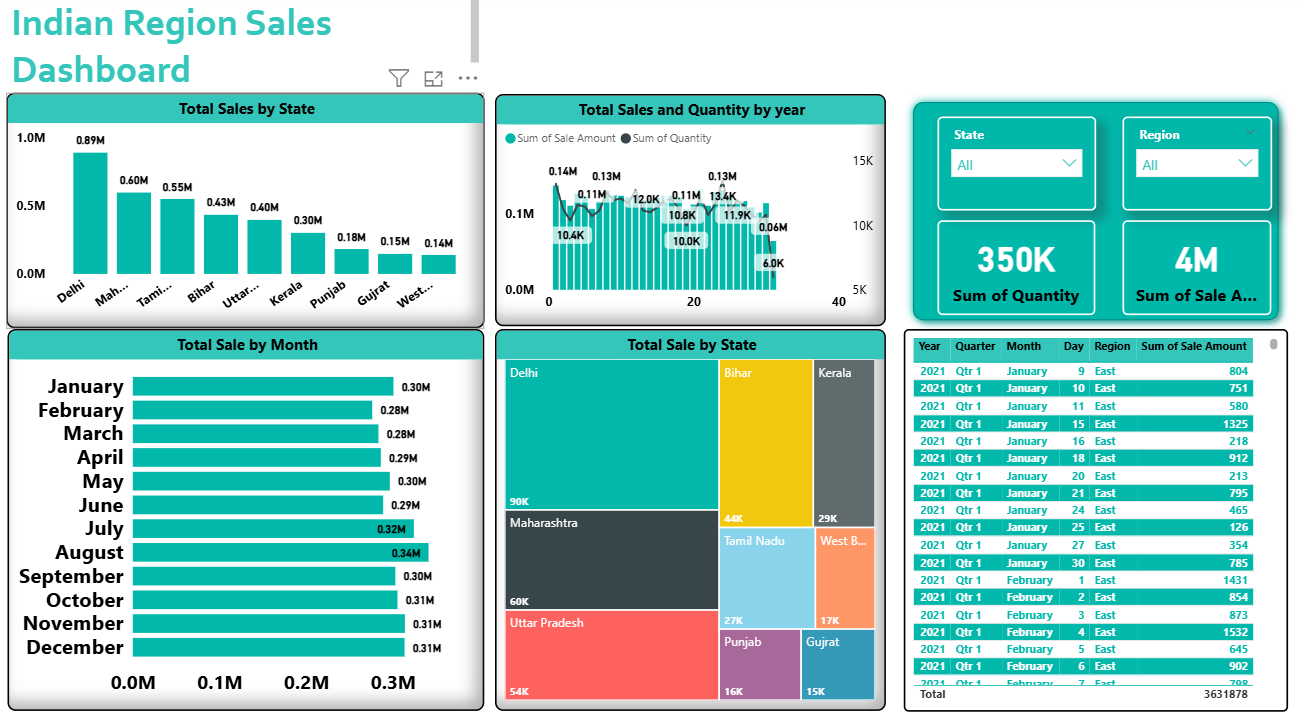

The dashboard page shown, as its layout file describes it:
{"tool":"powerbi","page":{"name":"Page 1","canvas":[1280,720],"ordinal":0},"visuals":[{"type":"textbox","box":[11.2,0,465.9,145.1],"z":0},{"type":"clusteredColumnChart","title":"Total Sales by State","fields":{"Category":["New folder.State"],"Y":["Sum(New folder.Sale Amount)"]},"box":[10.5,97,467.8,230.6],"z":1000},{"type":"clusteredBarChart","title":"Total Sale by Month","fields":{"Category":["New folder.Date.Variation.Date Hierarchy.Month"],"Y":["Sum(New folder.Sale Amount)"]},"box":[11.8,327.6,466.5,373.5],"z":2000},{"type":"lineClusteredColumnComboChart","title":"Total Sales and Quantity by year","fields":{"Category":["New folder.Date.Variation.Date Hierarchy.Year","New folder.Date.Variation.Date Hierarchy.Quarter","New folder.Date.Variation.Date Hierarchy.Month","New folder.Date.Variation.Date Hierarchy.Day"],"Y":["Sum(New folder.Sale Amount)"],"Y2":["Sum(New folder.Quantity)"]},"box":[489.3,98.3,382.3,227.2],"z":3000},{"type":"treemap","title":"Total Sale by State","fields":{"Group":["New folder.State"],"Values":["Sum(New folder.Quantity)"]},"box":[489.3,327.6,382.3,373.5],"z":4000},{"type":"shape","box":[889,96.1,375.7,231.5],"z":5000},{"type":"slicer","fields":{"Values":["New folder.State"]},"box":[921.8,120.1,155.1,91.7],"z":6000},{"type":"slicer","fields":{"Values":["New folder.Region"]},"box":[1103.1,120.1,146.3,91.7],"z":7000},{"type":"card","fields":{"Values":["Sum(New folder.Quantity)"]},"box":[922.2,221.1,154.2,93.1],"z":8000},{"type":"card","fields":{"Values":["Sum(New folder.Sale Amount)"]},"box":[1102.5,221.1,145.5,93.1],"z":9000},{"type":"tableEx","fields":{"Values":["New folder.Date.Variation.Date Hierarchy.Year","New folder.Date.Variation.Date Hierarchy.Quarter","New folder.Date.Variation.Date Hierarchy.Month","New folder.Date.Variation.Date Hierarchy.Day","New folder.Region","Sum(New folder.Sale Amount)"]},"box":[889,328,376,374],"z":10000}]}

Visuals, with their boxes in screenshot pixels (x1, y1, x2, y2), scaled from the page's 1280x720 canvas onto the 1298x723 screenshot:
textbox: 11/0/484/146
"Total Sales by State" clusteredColumnChart: 11/97/485/329
"Total Sale by Month" clusteredBarChart: 12/329/485/704
"Total Sales and Quantity by year" lineClusteredColumnComboChart: 496/99/884/327
"Total Sale by State" treemap: 496/329/884/704
shape: 902/97/1282/329
slicer - New folder.State: 935/121/1092/213
slicer - New folder.Region: 1119/121/1267/213
card - Sum(New folder.Quantity): 935/222/1092/316
card - Sum(New folder.Sale Amount): 1118/222/1266/316
tableEx - New folder.Date.Variation.Date Hierarchy.Year x New folder.Date.Variation.Date Hierarchy.Quarter: 902/329/1283/705
